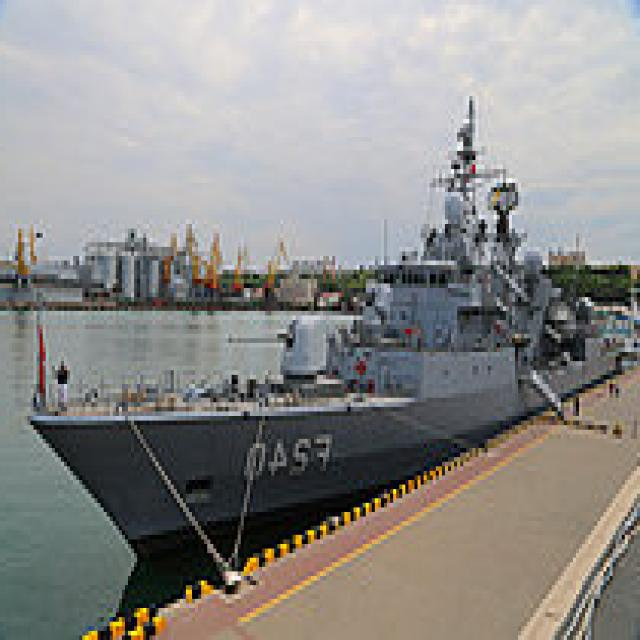Warship: (27, 87, 634, 562)
